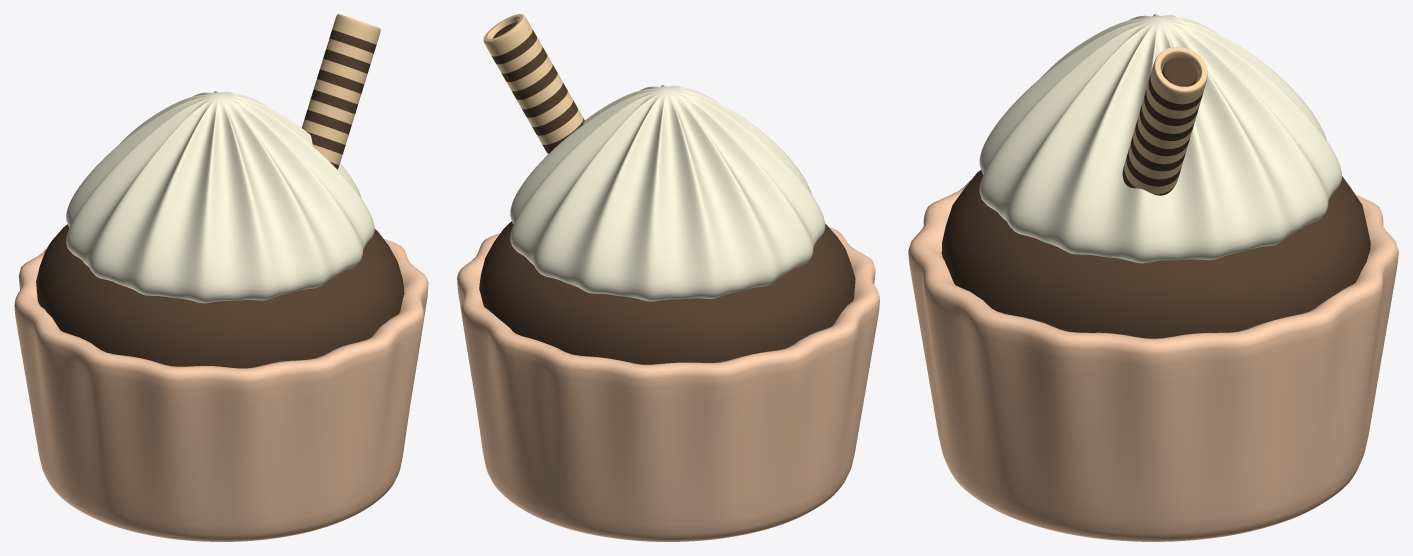
Rendered from ChocolateCupcake.fbx.
3 renders of one model, left to right at view 1: azimuth 30°, elevation 25°; view 2: azimuth 150°, elevation 25°; view 3: azimuth 270°, elevation 25°, orthographic. The views are drawn at different scales.
Parts seen in each view (by area): view 1: ChocolateCupcake-Wrapper, ChocolateCupcake-VanillaCream, ChocolateCupcake, ChocolateCupcake-WaferRolls; view 2: ChocolateCupcake-Wrapper, ChocolateCupcake-VanillaCream, ChocolateCupcake, ChocolateCupcake-WaferRolls; view 3: ChocolateCupcake-Wrapper, ChocolateCupcake-VanillaCream, ChocolateCupcake, ChocolateCupcake-WaferRolls.
Part boxes in pixels (<box>): ChocolateCupcake-Wrapper: <box>14,239,428,541</box>; ChocolateCupcake-VanillaCream: <box>66,91,374,303</box>; ChocolateCupcake: <box>36,224,404,368</box>; ChocolateCupcake-WaferRolls: <box>302,14,380,169</box>; ChocolateCupcake-Wrapper: <box>457,227,879,541</box>; ChocolateCupcake-VanillaCream: <box>510,85,825,301</box>; ChocolateCupcake: <box>479,221,855,364</box>; ChocolateCupcake-WaferRolls: <box>483,14,584,153</box>; ChocolateCupcake-Wrapper: <box>908,180,1398,541</box>; ChocolateCupcake-VanillaCream: <box>979,14,1341,263</box>; ChocolateCupcake: <box>941,170,1370,338</box>; ChocolateCupcake-WaferRolls: <box>1122,46,1207,195</box>.
Bounding box in the file's own units: 40.29 × 44.37 × 40.29.
